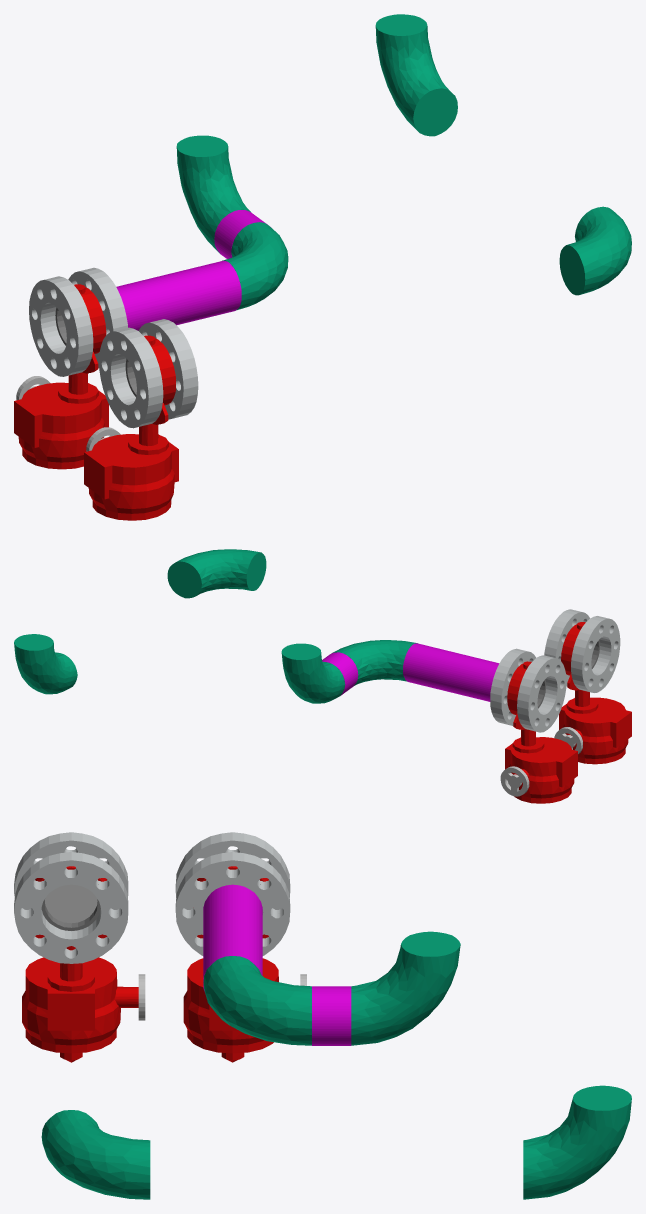
3 views of the same model, one above another, from view 1: azimuth 30°, elevation 25°; view 2: azimuth 150°, elevation 25°; view 3: azimuth 270°, elevation 25° (orthographic). The views are drawn at different scales.
Bounding box in the file's own units: 1.43 × 0.5013 × 1.19.
